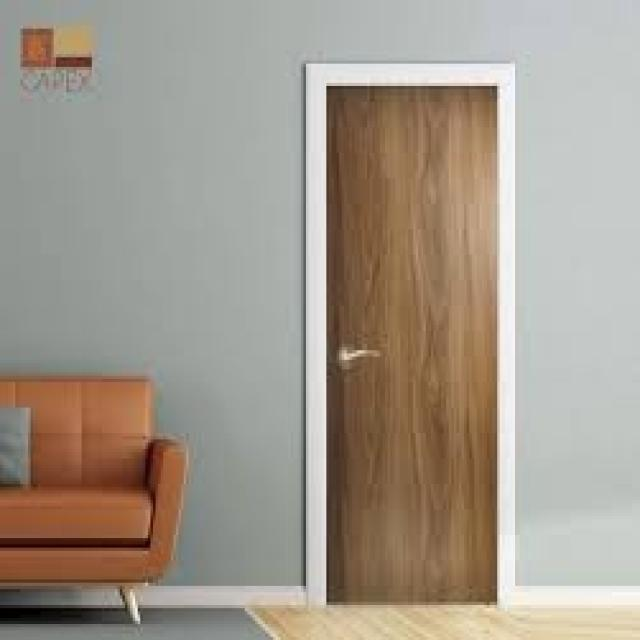door: (308, 64, 505, 608)
